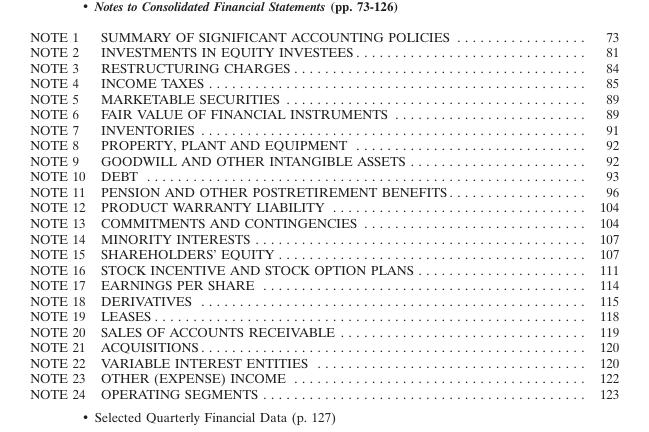table: (29, 28, 618, 400)
table column: (92, 28, 525, 400), (525, 28, 618, 400), (29, 28, 92, 400)
table column header: (29, 28, 618, 44)
table row: (29, 28, 618, 44), (29, 59, 618, 75), (29, 90, 618, 106), (29, 121, 618, 137), (29, 152, 618, 168), (29, 183, 618, 199), (29, 214, 618, 230), (29, 245, 618, 261), (29, 276, 618, 292), (29, 307, 618, 323), (29, 338, 618, 354), (29, 369, 618, 385), (29, 44, 618, 59), (29, 75, 618, 90), (29, 106, 618, 121), (29, 137, 618, 152), (29, 168, 618, 183), (29, 199, 618, 214), (29, 230, 618, 245), (29, 261, 618, 276), (29, 292, 618, 307), (29, 323, 618, 338), (29, 354, 618, 369), (29, 385, 618, 400)
